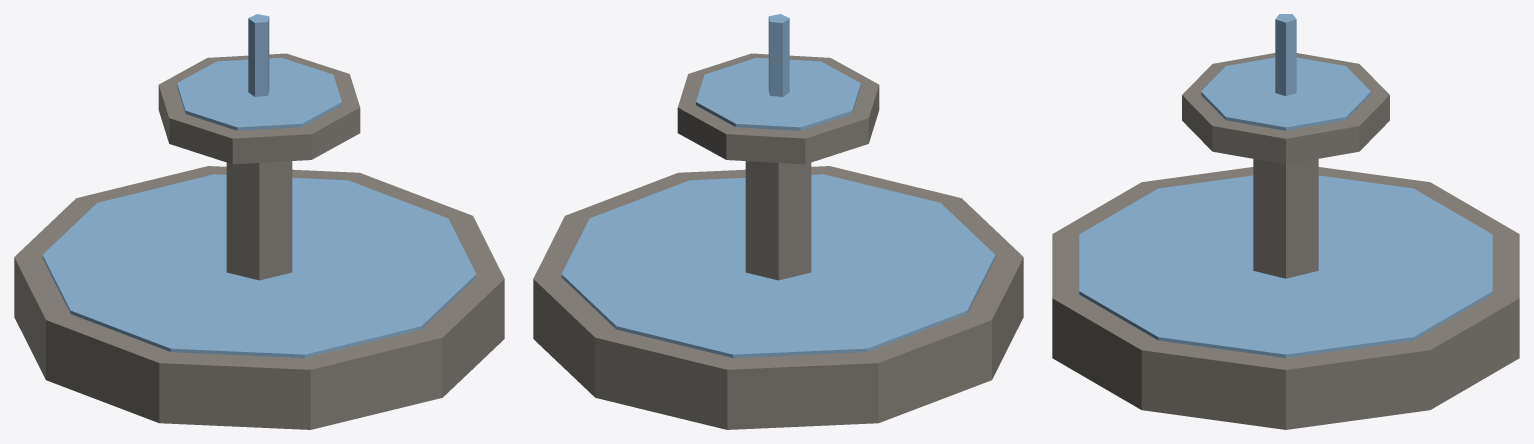
Rendered from fuente_plaza.obj.
3 renders of one model, left to right at view 1: azimuth 30°, elevation 25°; view 2: azimuth 150°, elevation 25°; view 3: azimuth 270°, elevation 25°, orthographic.
Parts seen in each view (by area): view 1: fuente_plaza; view 2: fuente_plaza; view 3: fuente_plaza.
Part boxes in pixels (box(x1,y1,x2,y2)): fuente_plaza: box(14, 14, 504, 429); fuente_plaza: box(533, 14, 1023, 429); fuente_plaza: box(1052, 14, 1519, 429).
Bounding box in the file's own units: 5.2 × 3.6 × 4.95.
